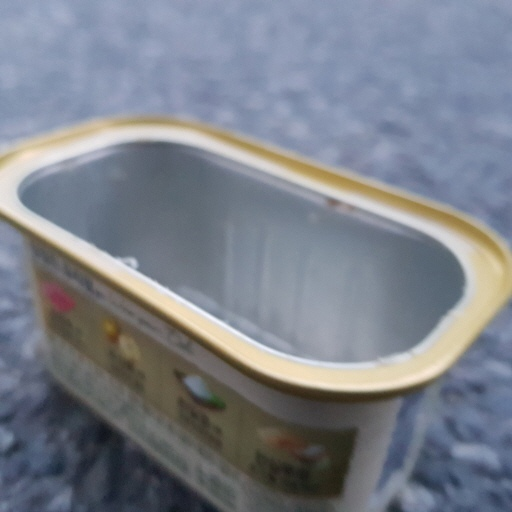Metal_2: (1, 114, 512, 511)
